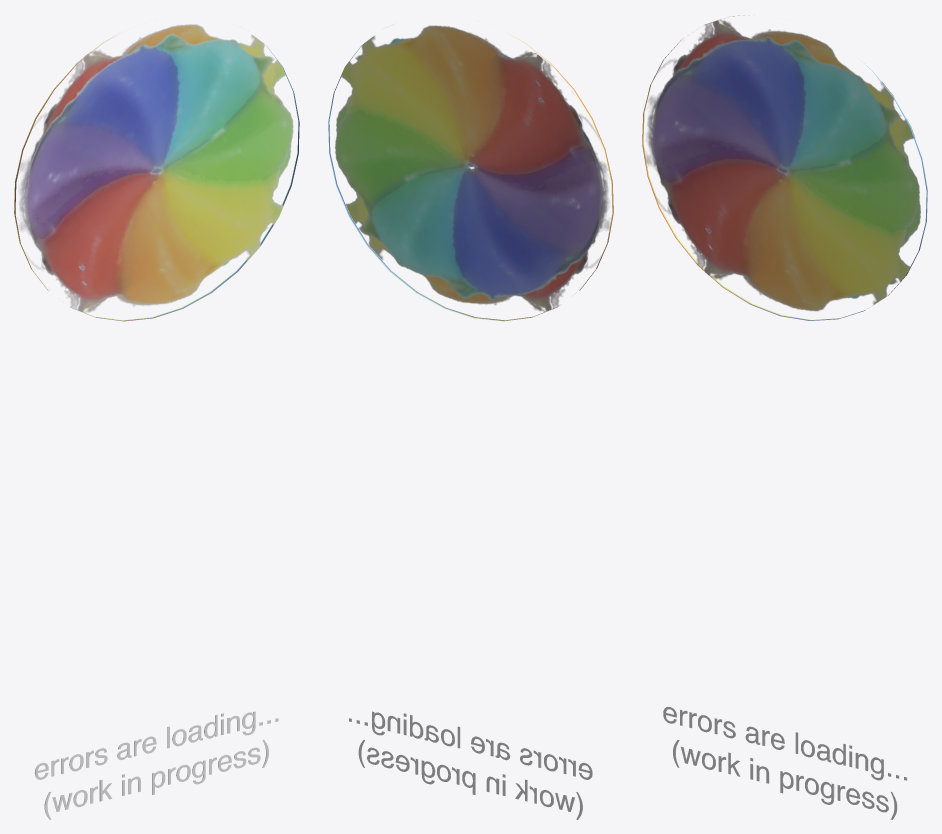
File: select.glb
3 renders of one model, left to right at view 1: azimuth 30°, elevation 25°; view 2: azimuth 150°, elevation 25°; view 3: azimuth 330°, elevation 25°, orthographic.
Parts seen in each view (by area): view 1: Zylinder; view 2: Zylinder; view 3: Zylinder.
Part boxes in pixels (x1=…): Zylinder: x1=14, y1=24, x2=299, y2=321; Zylinder: x1=328, y1=25, x2=613, y2=321; Zylinder: x1=642, y1=15, x2=927, y2=320.
Size of the model in its own units: 1.99 by 5.2 by 0.02.
Materials: 2 (1 with a texture image).
